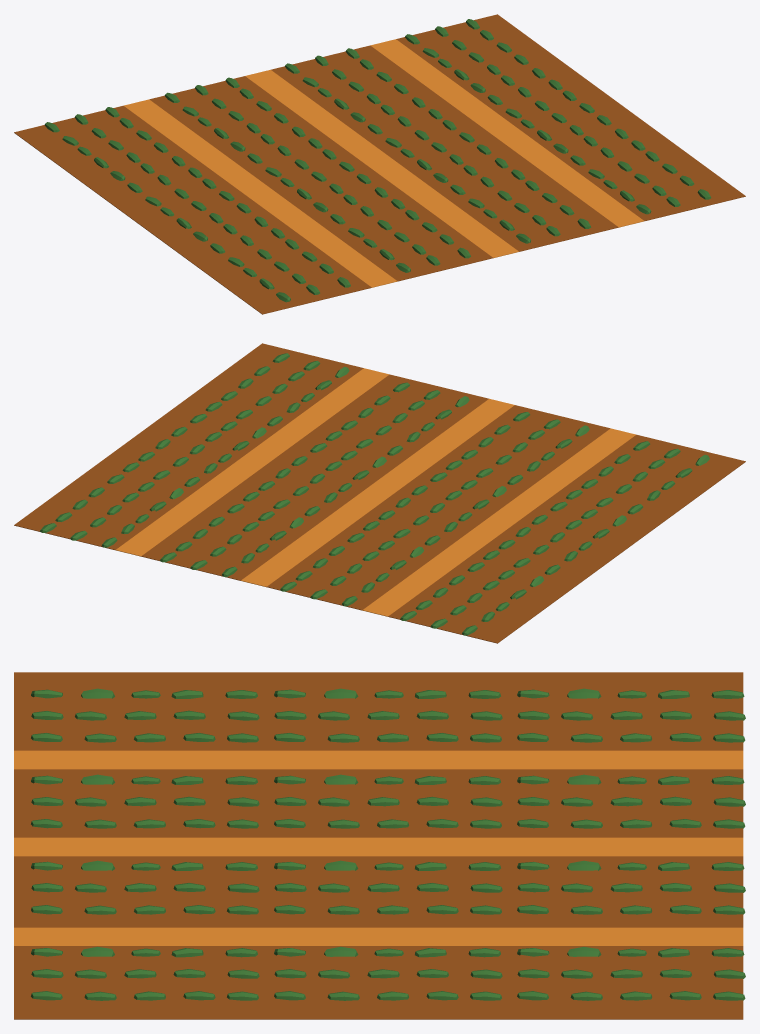
The model's file is cucumber.fbx.
3 views of the same model, one above another, from view 1: azimuth 30°, elevation 25°; view 2: azimuth 150°, elevation 25°; view 3: azimuth 270°, elevation 25° (orthographic). The views are drawn at different scales.
Visible parts, largest first — view 1: tomates.004; view 2: tomates.004; view 3: tomates.004.
Part boxes in pixels (left/top/right/bottom): tomates.004: left=14, top=14, right=745, bottom=314; tomates.004: left=14, top=343, right=745, bottom=643; tomates.004: left=14, top=672, right=745, bottom=1019.
Bounding box in the file's own units: 10.99 × 9.81 × 0.139.
